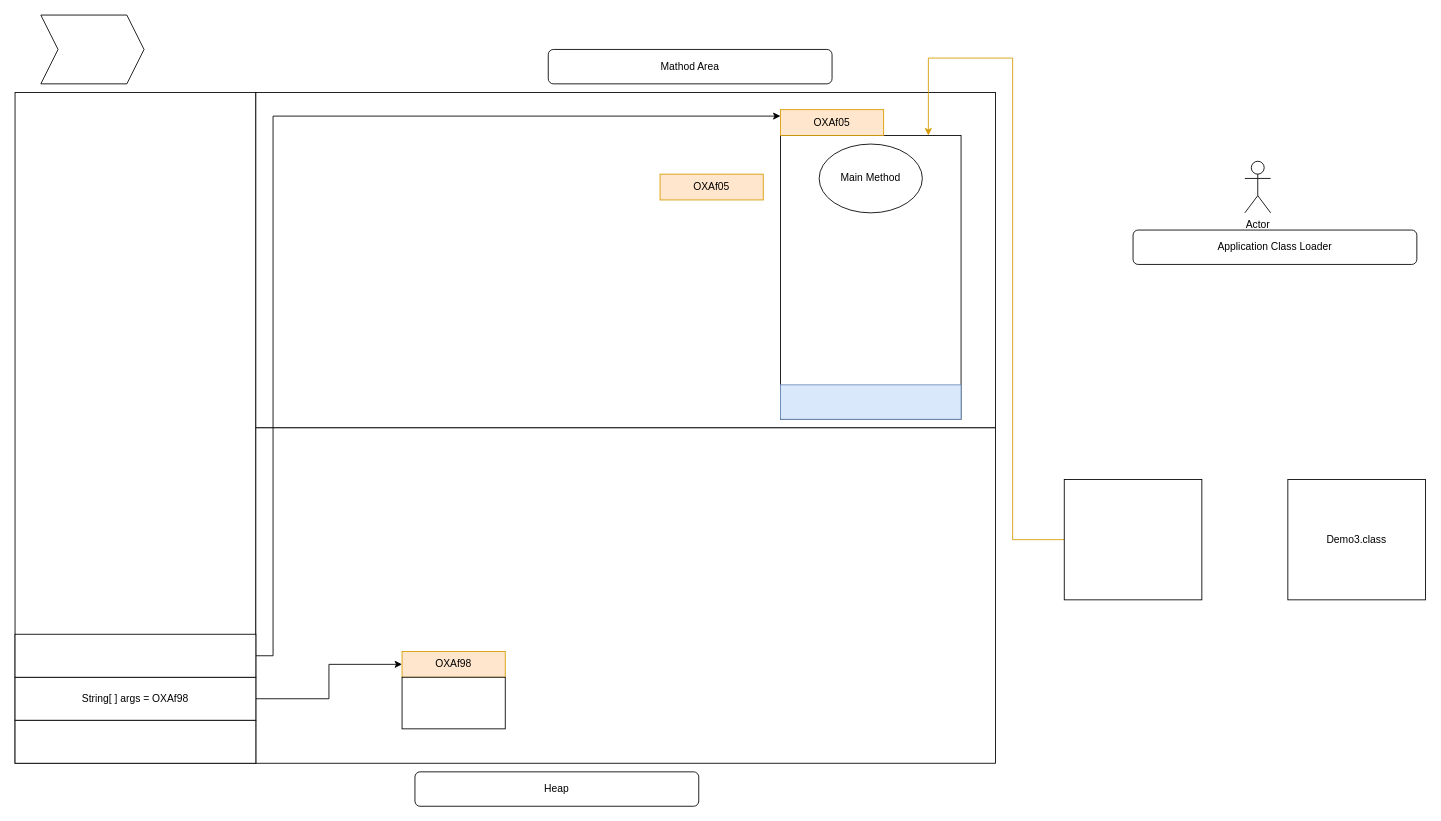
Image size: 1441x821. Some labels were removed from this diagram. The shapes that lost their labels are listed below. From the top down, each one's centre as x and y in pixels, then its label:
(92,49): Main Thread
(870,401): Demo class Object
(1132,539): Customer.class
(135,655): RCP = OXAf05
(453,702): Empty String Arrays
